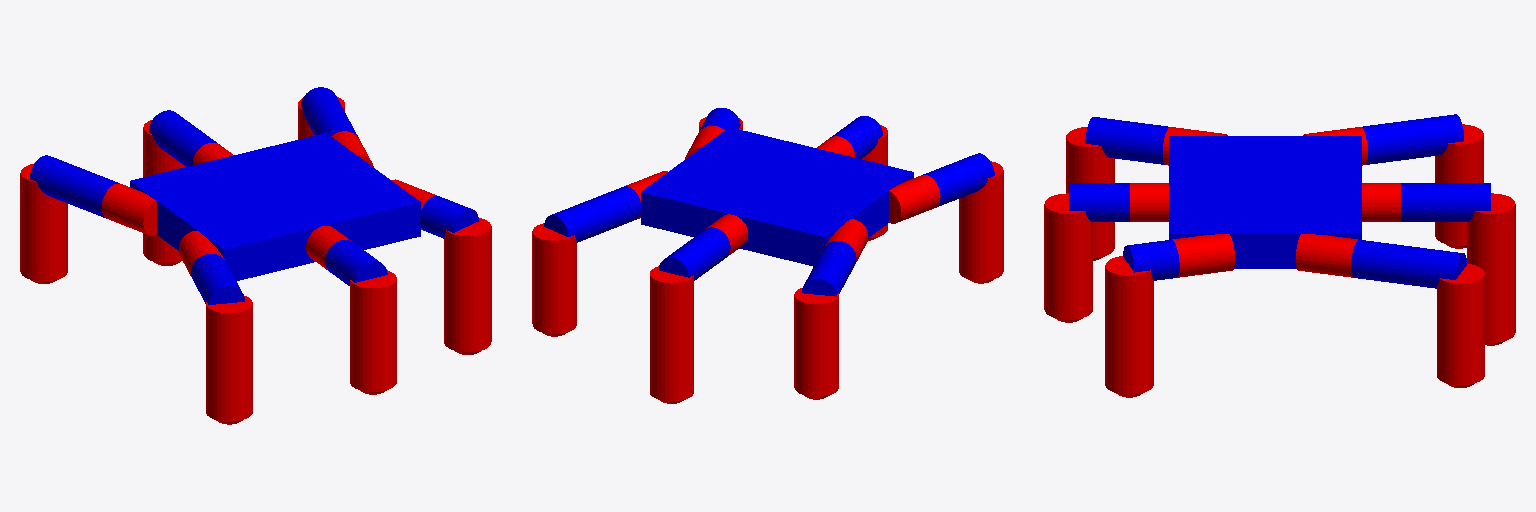
--- Facts derived from the render (not from the file) ---
Views: 3 orthographic renders of the robot side by side, from view 1: azimuth 30°, elevation 25°; view 2: azimuth 150°, elevation 25°; view 3: azimuth 270°, elevation 25°.
Robot: pexod — 19 links, 18 joints (18 revolute); root link base_link; default pose: all joints at 0.
Links seen in each view (by area): view 1: base_link, leg_3_3, leg_5_3, leg_4_3, leg_0_3, leg_0_2, leg_0_1, leg_1_2, leg_1_3, leg_5_2, leg_4_2, leg_2_2 (+4 smaller); view 2: base_link, leg_1_3, leg_0_3, leg_2_3, leg_5_3, leg_2_2, leg_1_2, leg_5_2, leg_0_2, leg_5_1, leg_4_2, leg_0_1 (+3 smaller); view 3: base_link, leg_3_3, leg_4_3, leg_1_3, leg_2_3, leg_2_2, leg_0_2, leg_1_2, leg_0_3, leg_5_3, leg_5_2, leg_4_2 (+5 smaller).
Link boxes in pixels (x1=…): base_link: x1=130, y1=133, x2=420, y2=280; leg_3_3: x1=444, y1=218, x2=491, y2=354; leg_5_3: x1=206, y1=296, x2=252, y2=424; leg_4_3: x1=350, y1=270, x2=396, y2=394; leg_0_3: x1=20, y1=163, x2=67, y2=283; leg_0_2: x1=30, y1=155, x2=118, y2=218; leg_0_1: x1=102, y1=183, x2=156, y2=235; leg_1_2: x1=149, y1=110, x2=219, y2=166; leg_1_3: x1=143, y1=120, x2=185, y2=265; leg_5_2: x1=191, y1=254, x2=244, y2=304; leg_4_2: x1=325, y1=240, x2=387, y2=285; leg_2_2: x1=301, y1=87, x2=358, y2=137; base_link: x1=641, y1=127, x2=913, y2=266; leg_1_3: x1=650, y1=266, x2=693, y2=403; leg_0_3: x1=794, y1=288, x2=838, y2=399; leg_2_3: x1=532, y1=223, x2=576, y2=336; leg_5_3: x1=959, y1=161, x2=1003, y2=283; leg_2_2: x1=544, y1=186, x2=641, y2=242; leg_1_2: x1=659, y1=227, x2=730, y2=280; leg_5_2: x1=923, y1=153, x2=994, y2=207; leg_0_2: x1=802, y1=241, x2=856, y2=296; leg_5_1: x1=889, y1=175, x2=940, y2=223; leg_4_2: x1=830, y1=116, x2=882, y2=158; leg_0_1: x1=825, y1=219, x2=867, y2=261; base_link: x1=1169, y1=136, x2=1361, y2=268; leg_3_3: x1=1105, y1=256, x2=1153, y2=397; leg_4_3: x1=1044, y1=193, x2=1092, y2=322; leg_1_3: x1=1467, y1=193, x2=1515, y2=345; leg_2_3: x1=1437, y1=264, x2=1484, y2=387; leg_2_2: x1=1351, y1=240, x2=1466, y2=288; leg_0_2: x1=1362, y1=114, x2=1463, y2=164; leg_1_2: x1=1401, y1=183, x2=1490, y2=221; leg_0_3: x1=1435, y1=124, x2=1483, y2=248; leg_5_3: x1=1066, y1=127, x2=1114, y2=260; leg_5_2: x1=1085, y1=117, x2=1168, y2=164; leg_4_2: x1=1069, y1=183, x2=1129, y2=221.
Bounding box of the posed robot: 0.3893 × 0.4861 × 0.1795 m (x, y, z).
Geometry: primitives only (box / cylinder / sphere), no mesh files.

URDF robot description (pexod):
<?xml version="1.0" ?>
<!-- =================================================================================== -->
<!-- |    This document was autogenerated by xacro from pexod.xacro                    | -->
<!-- |    EDITING THIS FILE BY HAND IS NOT RECOMMENDED                                 | -->
<!-- =================================================================================== -->
<robot name="pexod" xmlns:xacro="http://www.ros.org/wiki/xacro">
  <!-- <xacro:include filename="$(find pexod_description)/urdf/pexod_control.xacro" /> -->
  <!-- MATERIALS -->
  <material name="Blue">
    <color rgba="0 0 1 1"/>
  </material>
  <material name="Red">
    <color rgba="1 0 0 1"/>
  </material>
  <material name="Green">
    <color rgba="0 1 0 1"/>
  </material>
  <material name="Yellow">
    <color rgba="1 1 0 1"/>
  </material>
  <material name="LightGrey">
    <color rgba="0.6 0.6 0.6 1.0"/>
  </material>
  <!-- END OF MATERIALS -->
  <!-- XACRO MACROS FOR VISUALS AND COLLISIONS -->
  <!-- END OF XACRO MACROS -->
  <!-- TORSO -->
  <link name="base_link">
    <visual>
      <origin rpy="0 0 0" xyz="0 0 0"/>
      <geometry>
        <box size="0.24 0.2 0.04"/>
      </geometry>
      <material name="Blue"/>
    </visual>
    <collision>
      <origin rpy="0 0 0" xyz="0 0 0"/>
      <geometry>
        <box size="0.24 0.2 0.04"/>
      </geometry>
    </collision>
    <inertial>
      <!-- CENTER OF MASS -->
      <origin rpy="0 0 0" xyz="0 0 0"/>
      <mass value="1.031"/>
      <!-- box inertia: 1/12*m(y^2+z^2), ... -->
      <inertia ixx="0.00357413333333" ixy="0" ixz="0" iyy="0.00508626666667" iyz="0" izz="0.00838546666667"/>
    </inertial>
  </link>
  <!-- XACRO MACRO FOR LEGS LINKS/JOINTS -->
  <!-- END OF LEG LINKS/JOINTS -->
  <joint name="body_leg_2" type="revolute">
    <parent link="base_link"/>
    <child link="leg_2_1"/>
    <limit effort="30.0" lower="-1.57079632679" upper="1.57079632679" velocity="7.0"/>
    <origin rpy="0 0 -0.3" xyz="0.11 0.04 0"/>
    <!-- <xacro:if value="${index == 5 or index == 4 or index == 3}">
                <axis xyz="0 0 1"/>
            </xacro:if>
            <xacro:if value="${index == 2 or index == 1 or index == 0}"> -->
    <axis xyz="0 0 1"/>
    <!-- </xacro:if> -->
    <dynamics damping="0.0"/>
  </joint>
  <link name="leg_2_1">
    <visual>
      <origin rpy="1.57079632679 0 0" xyz="0.01 0.03 0"/>
      <geometry>
        <cylinder length="0.06" radius="0.02"/>
      </geometry>
      <material name="Red"/>
    </visual>
    <collision>
      <origin rpy="1.57079632679 0 0" xyz="0.01 0.03 0"/>
      <geometry>
        <box size="0.02 0.02 0.06"/>
      </geometry>
    </collision>
    <inertial>
      <!-- CENTER OF MASS -->
      <origin rpy="1.57079632679 0 0" xyz="0.01 0.03 0"/>
      <mass value="0.02"/>
      <!-- box inertia: 1/12*m(y^2+z^2), ... -->
      <inertia ixx="6.66666666667e-06" ixy="0" ixz="0" iyy="6.66666666667e-06" iyz="0" izz="1.33333333333e-06"/>
    </inertial>
  </link>
  <joint name="leg_2_1_2" type="revolute">
    <parent link="leg_2_1"/>
    <child link="leg_2_2"/>
    <limit effort="30.0" lower="-0.78539816339" upper="0.78539816339" velocity="7.0"/>
    <origin rpy="0 0 0" xyz="0 0.06 0"/>
    <axis xyz="1 0 0"/>
    <dynamics damping="0.0"/>
  </joint>
  <link name="leg_2_2">
    <visual>
      <origin rpy="1.57079632679 0 0" xyz="0.01 0.0564724183135 0"/>
      <geometry>
        <cylinder length="0.112944836627" radius="0.02"/>
      </geometry>
      <material name="Blue"/>
    </visual>
    <collision>
      <origin rpy="1.57079632679 0 0" xyz="0.01 0.0564724183135 0"/>
      <geometry>
        <box size="0.02 0.02 0.112944836627"/>
      </geometry>
    </collision>
    <inertial>
      <!-- CENTER OF MASS -->
      <origin rpy="1.57079632679 0 0" xyz="0.01 0.0564724183135 0"/>
      <mass value="0.184"/>
      <!-- box inertia: 1/12*m(y^2+z^2), ... -->
      <inertia ixx="0.000201733553851" ixy="0" ixz="0" iyy="0.000201733553851" iyz="0" izz="1.22666666667e-05"/>
    </inertial>
  </link>
  <joint name="leg_2_2_3" type="revolute">
    <parent link="leg_2_2"/>
    <child link="leg_2_3"/>
    <limit effort="30.0" lower="-0.78539816339" upper="0.78539816339" velocity="7.0"/>
    <origin rpy="-1.57079632679 0 0" xyz="0 0.112944836627 0"/>
    <axis xyz="-1 0 0"/>
    <dynamics damping="0.0"/>
  </joint>
  <link name="leg_2_3">
    <visual>
      <origin rpy="1.57079632679 0 0" xyz="0.0125 0.057927809242 0"/>
      <geometry>
        <cylinder length="0.115855618484" radius="0.025"/>
      </geometry>
      <material name="Red"/>
    </visual>
    <visual>
      <origin rpy="1.57079632679 0 0" xyz="0.0125 0.103355618484 0"/>
      <geometry>
        <sphere radius="0.025"/>
      </geometry>
      <material name="Red"/>
    </visual>
    <collision>
      <origin rpy="1.57079632679 0 0" xyz="0.0125 0.057927809242 0"/>
      <geometry>
        <box size="0.025 0.025 0.115855618484"/>
      </geometry>
    </collision>
    <collision>
      <origin rpy="1.57079632679 0 0" xyz="0.0125 0.103355618484 0"/>
      <geometry>
        <sphere radius="0.025"/>
      </geometry>
      <material name="Red"/>
    </collision>
    <inertial>
      <!-- CENTER OF MASS -->
      <origin rpy="1.57079632679 0 0" xyz="0.0125 0.057927809242 0"/>
      <mass value="0.04"/>
      <!-- box inertia: 1/12*m(y^2+z^2), ... -->
      <inertia ixx="4.68250811144e-05" ixy="0" ixz="0" iyy="4.68250811144e-05" iyz="0" izz="4.16666666667e-06"/>
    </inertial>
  </link>
  <joint name="body_leg_3" type="revolute">
    <parent link="base_link"/>
    <child link="leg_3_1"/>
    <limit effort="30.0" lower="-1.57079632679" upper="1.57079632679" velocity="7.0"/>
    <origin rpy="0 0 0.3" xyz="0.11 -0.04 0"/>
    <!-- <xacro:if value="${index == 5 or index == 4 or index == 3}">
                <axis xyz="0 0 1"/>
            </xacro:if>
            <xacro:if value="${index == 2 or index == 1 or index == 0}"> -->
    <axis xyz="0 0 1"/>
    <!-- </xacro:if> -->
    <dynamics damping="0.0"/>
  </joint>
  <link name="leg_3_1">
    <visual>
      <origin rpy="1.57079632679 0 0" xyz="0.01 -0.03 0"/>
      <geometry>
        <cylinder length="0.06" radius="0.02"/>
      </geometry>
      <material name="Red"/>
    </visual>
    <collision>
      <origin rpy="1.57079632679 0 0" xyz="0.01 -0.03 0"/>
      <geometry>
        <box size="0.02 0.02 0.06"/>
      </geometry>
    </collision>
    <inertial>
      <!-- CENTER OF MASS -->
      <origin rpy="1.57079632679 0 0" xyz="0.01 -0.03 0"/>
      <mass value="0.02"/>
      <!-- box inertia: 1/12*m(y^2+z^2), ... -->
      <inertia ixx="6.66666666667e-06" ixy="0" ixz="0" iyy="6.66666666667e-06" iyz="0" izz="1.33333333333e-06"/>
    </inertial>
  </link>
  <joint name="leg_3_1_2" type="revolute">
    <parent link="leg_3_1"/>
    <child link="leg_3_2"/>
    <limit effort="30.0" lower="-0.78539816339" upper="0.78539816339" velocity="7.0"/>
    <origin rpy="0 0 0" xyz="0 -0.06 0"/>
    <axis xyz="-1 0 0"/>
    <dynamics damping="0.0"/>
  </joint>
  <link name="leg_3_2">
    <visual>
      <origin rpy="1.57079632679 0 0" xyz="0.01 -0.0244085472381 0"/>
      <geometry>
        <cylinder length="0.0488170944762" radius="0.02"/>
      </geometry>
      <material name="Blue"/>
    </visual>
    <collision>
      <origin rpy="1.57079632679 0 0" xyz="0.01 -0.0244085472381 0"/>
      <geometry>
        <box size="0.02 0.02 0.0488170944762"/>
      </geometry>
    </collision>
    <inertial>
      <!-- CENTER OF MASS -->
      <origin rpy="1.57079632679 0 0" xyz="0.01 -0.0244085472381 0"/>
      <mass value="0.184"/>
      <!-- box inertia: 1/12*m(y^2+z^2), ... -->
      <inertia ixx="4.26743336008e-05" ixy="0" ixz="0" iyy="4.26743336008e-05" iyz="0" izz="1.22666666667e-05"/>
    </inertial>
  </link>
  <joint name="leg_3_2_3" type="revolute">
    <parent link="leg_3_2"/>
    <child link="leg_3_3"/>
    <limit effort="30.0" lower="-0.78539816339" upper="0.78539816339" velocity="7.0"/>
    <origin rpy="1.57079632679 0 0" xyz="0 -0.0488170944762 0"/>
    <axis xyz="1 0 0"/>
    <dynamics damping="0.0"/>
  </joint>
  <link name="leg_3_3">
    <visual>
      <origin rpy="1.57079632679 0 0" xyz="0.0125 -0.0676943907455 0"/>
      <geometry>
        <cylinder length="0.135388781491" radius="0.025"/>
      </geometry>
      <material name="Red"/>
    </visual>
    <visual>
      <origin rpy="1.57079632679 0 0" xyz="0.0125 -0.122888781491 0"/>
      <geometry>
        <sphere radius="0.025"/>
      </geometry>
      <material name="Red"/>
    </visual>
    <collision>
      <origin rpy="1.57079632679 0 0" xyz="0.0125 -0.0676943907455 0"/>
      <geometry>
        <box size="0.025 0.025 0.135388781491"/>
      </geometry>
    </collision>
    <collision>
      <origin rpy="1.57079632679 0 0" xyz="0.0125 -0.122888781491 0"/>
      <geometry>
        <sphere radius="0.025"/>
      </geometry>
      <material name="Red"/>
    </collision>
    <inertial>
      <!-- CENTER OF MASS -->
      <origin rpy="1.57079632679 0 0" xyz="0.0125 -0.0676943907455 0"/>
      <mass value="0.04"/>
      <!-- box inertia: 1/12*m(y^2+z^2), ... -->
      <inertia ixx="6.31837405121e-05" ixy="0" ixz="0" iyy="6.31837405121e-05" iyz="0" izz="4.16666666667e-06"/>
    </inertial>
  </link>
  <joint name="body_leg_0" type="revolute">
    <parent link="base_link"/>
    <child link="leg_0_1"/>
    <limit effort="30.0" lower="-1.57079632679" upper="1.57079632679" velocity="7.0"/>
    <origin rpy="0 0 0.3" xyz="-0.13 0.04 0"/>
    <!-- <xacro:if value="${index == 5 or index == 4 or index == 3}">
                <axis xyz="0 0 1"/>
            </xacro:if>
            <xacro:if value="${index == 2 or index == 1 or index == 0}"> -->
    <axis xyz="0 0 1"/>
    <!-- </xacro:if> -->
    <dynamics damping="0.0"/>
  </joint>
  <link name="leg_0_1">
    <visual>
      <origin rpy="1.57079632679 0 0" xyz="0.01 0.03 0"/>
      <geometry>
        <cylinder length="0.06" radius="0.02"/>
      </geometry>
      <material name="Red"/>
    </visual>
    <collision>
      <origin rpy="1.57079632679 0 0" xyz="0.01 0.03 0"/>
      <geometry>
        <box size="0.02 0.02 0.06"/>
      </geometry>
    </collision>
    <inertial>
      <!-- CENTER OF MASS -->
      <origin rpy="1.57079632679 0 0" xyz="0.01 0.03 0"/>
      <mass value="0.02"/>
      <!-- box inertia: 1/12*m(y^2+z^2), ... -->
      <inertia ixx="6.66666666667e-06" ixy="0" ixz="0" iyy="6.66666666667e-06" iyz="0" izz="1.33333333333e-06"/>
    </inertial>
  </link>
  <joint name="leg_0_1_2" type="revolute">
    <parent link="leg_0_1"/>
    <child link="leg_0_2"/>
    <limit effort="30.0" lower="-0.78539816339" upper="0.78539816339" velocity="7.0"/>
    <origin rpy="0 0 0" xyz="0 0.06 0"/>
    <axis xyz="1 0 0"/>
    <dynamics damping="0.0"/>
  </joint>
  <link name="leg_0_2">
    <visual>
      <origin rpy="1.57079632679 0 0" xyz="0.01 0.0519185975355 0"/>
      <geometry>
        <cylinder length="0.103837195071" radius="0.02"/>
      </geometry>
      <material name="Blue"/>
    </visual>
    <collision>
      <origin rpy="1.57079632679 0 0" xyz="0.01 0.0519185975355 0"/>
      <geometry>
        <box size="0.02 0.02 0.103837195071"/>
      </geometry>
    </collision>
    <inertial>
      <!-- CENTER OF MASS -->
      <origin rpy="1.57079632679 0 0" xyz="0.01 0.0519185975355 0"/>
      <mass value="0.184"/>
      <!-- box inertia: 1/12*m(y^2+z^2), ... -->
      <inertia ixx="0.000171459833897" ixy="0" ixz="0" iyy="0.000171459833897" iyz="0" izz="1.22666666667e-05"/>
    </inertial>
  </link>
  <joint name="leg_0_2_3" type="revolute">
    <parent link="leg_0_2"/>
    <child link="leg_0_3"/>
    <limit effort="30.0" lower="-0.78539816339" upper="0.78539816339" velocity="7.0"/>
    <origin rpy="-1.57079632679 0 0" xyz="0 0.103837195071 0"/>
    <axis xyz="-1 0 0"/>
    <dynamics damping="0.0"/>
  </joint>
  <link name="leg_0_3">
    <visual>
      <origin rpy="1.57079632679 0 0" xyz="0.0125 0.0576606744605 0"/>
      <geometry>
        <cylinder length="0.115321348921" radius="0.025"/>
      </geometry>
      <material name="Red"/>
    </visual>
    <visual>
      <origin rpy="1.57079632679 0 0" xyz="0.0125 0.102821348921 0"/>
      <geometry>
        <sphere radius="0.025"/>
      </geometry>
      <material name="Red"/>
    </visual>
    <collision>
      <origin rpy="1.57079632679 0 0" xyz="0.0125 0.0576606744605 0"/>
      <geometry>
        <box size="0.025 0.025 0.115321348921"/>
      </geometry>
    </collision>
    <collision>
      <origin rpy="1.57079632679 0 0" xyz="0.0125 0.102821348921 0"/>
      <geometry>
        <sphere radius="0.025"/>
      </geometry>
      <material name="Red"/>
    </collision>
    <inertial>
      <!-- CENTER OF MASS -->
      <origin rpy="1.57079632679 0 0" xyz="0.0125 0.0576606744605 0"/>
      <mass value="0.04"/>
      <!-- box inertia: 1/12*m(y^2+z^2), ... -->
      <inertia ixx="4.64133783899e-05" ixy="0" ixz="0" iyy="4.64133783899e-05" iyz="0" izz="4.16666666667e-06"/>
    </inertial>
  </link>
  <joint name="body_leg_5" type="revolute">
    <parent link="base_link"/>
    <child link="leg_5_1"/>
    <limit effort="30.0" lower="-1.57079632679" upper="1.57079632679" velocity="7.0"/>
    <origin rpy="0 0 -0.3" xyz="-0.13 -0.04 0"/>
    <!-- <xacro:if value="${index == 5 or index == 4 or index == 3}">
                <axis xyz="0 0 1"/>
            </xacro:if>
            <xacro:if value="${index == 2 or index == 1 or index == 0}"> -->
    <axis xyz="0 0 1"/>
    <!-- </xacro:if> -->
    <dynamics damping="0.0"/>
  </joint>
  <link name="leg_5_1">
    <visual>
      <origin rpy="1.57079632679 0 0" xyz="0.01 -0.03 0"/>
      <geometry>
        <cylinder length="0.06" radius="0.02"/>
      </geometry>
      <material name="Red"/>
    </visual>
    <collision>
      <origin rpy="1.57079632679 0 0" xyz="0.01 -0.03 0"/>
      <geometry>
        <box size="0.02 0.02 0.06"/>
      </geometry>
    </collision>
    <inertial>
      <!-- CENTER OF MASS -->
      <origin rpy="1.57079632679 0 0" xyz="0.01 -0.03 0"/>
      <mass value="0.02"/>
      <!-- box inertia: 1/12*m(y^2+z^2), ... -->
      <inertia ixx="6.66666666667e-06" ixy="0" ixz="0" iyy="6.66666666667e-06" iyz="0" izz="1.33333333333e-06"/>
    </inertial>
  </link>
  <joint name="leg_5_1_2" type="revolute">
    <parent link="leg_5_1"/>
    <child link="leg_5_2"/>
    <limit effort="30.0" lower="-0.78539816339" upper="0.78539816339" velocity="7.0"/>
    <origin rpy="0 0 0" xyz="0 -0.06 0"/>
    <axis xyz="-1 0 0"/>
    <dynamics damping="0.0"/>
  </joint>
  <link name="leg_5_2">
    <visual>
      <origin rpy="1.57079632679 0 0" xyz="0.01 -0.0416664580991 0"/>
      <geometry>
        <cylinder length="0.0833329161983" radius="0.02"/>
      </geometry>
      <material name="Blue"/>
    </visual>
    <collision>
      <origin rpy="1.57079632679 0 0" xyz="0.01 -0.0416664580991 0"/>
      <geometry>
        <box size="0.02 0.02 0.0833329161983"/>
      </geometry>
    </collision>
    <inertial>
      <!-- CENTER OF MASS -->
      <origin rpy="1.57079632679 0 0" xyz="0.01 -0.0416664580991 0"/>
      <mass value="0.184"/>
      <!-- box inertia: 1/12*m(y^2+z^2), ... -->
      <inertia ixx="0.000112613748806" ixy="0" ixz="0" iyy="0.000112613748806" iyz="0" izz="1.22666666667e-05"/>
    </inertial>
  </link>
  <joint name="leg_5_2_3" type="revolute">
    <parent link="leg_5_2"/>
    <child link="leg_5_3"/>
    <limit effort="30.0" lower="-0.78539816339" upper="0.78539816339" velocity="7.0"/>
    <origin rpy="1.57079632679 0 0" xyz="0 -0.0833329161983 0"/>
    <axis xyz="1 0 0"/>
    <dynamics damping="0.0"/>
  </joint>
  <link name="leg_5_3">
    <visual>
      <origin rpy="1.57079632679 0 0" xyz="0.0125 -0.0632711247405 0"/>
      <geometry>
        <cylinder length="0.126542249481" radius="0.025"/>
      </geometry>
      <material name="Red"/>
    </visual>
    <visual>
      <origin rpy="1.57079632679 0 0" xyz="0.0125 -0.114042249481 0"/>
      <geometry>
        <sphere radius="0.025"/>
      </geometry>
      <material name="Red"/>
    </visual>
    <collision>
      <origin rpy="1.57079632679 0 0" xyz="0.0125 -0.0632711247405 0"/>
      <geometry>
        <box size="0.025 0.025 0.126542249481"/>
      </geometry>
    </collision>
    <collision>
      <origin rpy="1.57079632679 0 0" xyz="0.0125 -0.114042249481 0"/>
      <geometry>
        <sphere radius="0.025"/>
      </geometry>
      <material name="Red"/>
    </collision>
    <inertial>
      <!-- CENTER OF MASS -->
      <origin rpy="1.57079632679 0 0" xyz="0.0125 -0.0632711247405 0"/>
      <mass value="0.04"/>
      <!-- box inertia: 1/12*m(y^2+z^2), ... -->
      <inertia ixx="5.54598030124e-05" ixy="0" ixz="0" iyy="5.54598030124e-05" iyz="0" izz="4.16666666667e-06"/>
    </inertial>
  </link>
  <joint name="body_leg_1" type="revolute">
    <parent link="base_link"/>
    <child link="leg_1_1"/>
    <limit effort="30.0" lower="-1.57079632679" upper="1.57079632679" velocity="7.0"/>
    <origin rpy="0 0 0" xyz="-0.01 0.08 0"/>
    <!-- <xacro:if value="${index == 5 or index == 4 or index == 3}">
                <axis xyz="0 0 1"/>
            </xacro:if>
            <xacro:if value="${index == 2 or index == 1 or index == 0}"> -->
    <axis xyz="0 0 1"/>
    <!-- </xacro:if> -->
    <dynamics damping="0.0"/>
  </joint>
  <link name="leg_1_1">
    <visual>
      <origin rpy="1.57079632679 0 0" xyz="0.01 0.03 0"/>
      <geometry>
        <cylinder length="0.06" radius="0.02"/>
      </geometry>
      <material name="Red"/>
    </visual>
    <collision>
      <origin rpy="1.57079632679 0 0" xyz="0.01 0.03 0"/>
      <geometry>
        <box size="0.02 0.02 0.06"/>
      </geometry>
    </collision>
    <inertial>
      <!-- CENTER OF MASS -->
      <origin rpy="1.57079632679 0 0" xyz="0.01 0.03 0"/>
      <mass value="0.02"/>
      <!-- box inertia: 1/12*m(y^2+z^2), ... -->
      <inertia ixx="6.66666666667e-06" ixy="0" ixz="0" iyy="6.66666666667e-06" iyz="0" izz="1.33333333333e-06"/>
    </inertial>
  </link>
  <joint name="leg_1_1_2" type="revolute">
    <parent link="leg_1_1"/>
    <child link="leg_1_2"/>
    <limit effort="30.0" lower="-0.78539816339" upper="0.78539816339" velocity="7.0"/>
    <origin rpy="0 0 0" xyz="0 0.06 0"/>
    <axis xyz="1 0 0"/>
    <dynamics damping="0.0"/>
  </joint>
  <link name="leg_1_2">
    <visual>
      <origin rpy="1.57079632679 0 0" xyz="0.01 0.0465515741211 0"/>
      <geometry>
        <cylinder length="0.0931031482421" radius="0.02"/>
      </geometry>
      <material name="Blue"/>
    </visual>
    <collision>
      <origin rpy="1.57079632679 0 0" xyz="0.01 0.0465515741211 0"/>
      <geometry>
        <box size="0.02 0.02 0.0931031482421"/>
      </geometry>
    </collision>
    <inertial>
      <!-- CENTER OF MASS -->
      <origin rpy="1.57079632679 0 0" xyz="0.01 0.0465515741211 0"/>
      <mass value="0.184"/>
      <!-- box inertia: 1/12*m(y^2+z^2), ... -->
      <inertia ixx="0.00013904567526" ixy="0" ixz="0" iyy="0.00013904567526" iyz="0" izz="1.22666666667e-05"/>
    </inertial>
  </link>
  <joint name="leg_1_2_3" type="revolute">
    <parent link="leg_1_2"/>
    <child link="leg_1_3"/>
    <limit effort="30.0" lower="-0.78539816339" upper="0.78539816339" velocity="7.0"/>
    <origin rpy="-1.57079632679 0 0" xyz="0 0.0931031482421 0"/>
    <axis xyz="-1 0 0"/>
    <dynamics damping="0.0"/>
  </joint>
  <link name="leg_1_3">
    <visual>
      <origin rpy="1.57079632679 0 0" xyz="0.0125 0.073475809485 0"/>
      <geometry>
        <cylinder length="0.14695161897" radius="0.025"/>
      </geometry>
      <material name="Red"/>
    </visual>
    <visual>
      <origin rpy="1.57079632679 0 0" xyz="0.0125 0.13445161897 0"/>
      <geometry>
        <sphere radius="0.025"/>
      </geometry>
      <material name="Red"/>
    </visual>
    <collision>
      <origin rpy="1.57079632679 0 0" xyz="0.0125 0.073475809485 0"/>
      <geometry>
        <box size="0.025 0.025 0.14695161897"/>
      </geometry>
    </collision>
    <collision>
      <origin rpy="1.57079632679 0 0" xyz="0.0125 0.13445161897 0"/>
      <geometry>
        <sphere radius="0.025"/>
      </geometry>
      <material name="Red"/>
    </collision>
    <inertial>
      <!-- CENTER OF MASS -->
      <origin rpy="1.57079632679 0 0" xyz="0.0125 0.073475809485 0"/>
      <mass value="0.04"/>
      <!-- box inertia: 1/12*m(y^2+z^2), ... -->
      <inertia ixx="7.40659277263e-05" ixy="0" ixz="0" iyy="7.40659277263e-05" iyz="0" izz="4.16666666667e-06"/>
    </inertial>
  </link>
  <joint name="body_leg_4" type="revolute">
    <parent link="base_link"/>
    <child link="leg_4_1"/>
    <limit effort="30.0" lower="-1.57079632679" upper="1.57079632679" velocity="7.0"/>
    <origin rpy="0 0 0" xyz="-0.01 -0.08 0"/>
    <!-- <xacro:if value="${index == 5 or index == 4 or index == 3}">
                <axis xyz="0 0 1"/>
            </xacro:if>
            <xacro:if value="${index == 2 or index == 1 or index == 0}"> -->
    <axis xyz="0 0 1"/>
    <!-- </xacro:if> -->
    <dynamics damping="0.0"/>
  </joint>
  <link name="leg_4_1">
    <visual>
      <origin rpy="1.57079632679 0 0" xyz="0.01 -0.03 0"/>
      <geometry>
        <cylinder length="0.06" radius="0.02"/>
      </geometry>
      <material name="Red"/>
    </visual>
    <collision>
      <origin rpy="1.57079632679 0 0" xyz="0.01 -0.03 0"/>
      <geometry>
        <box size="0.02 0.02 0.06"/>
      </geometry>
    </collision>
    <inertial>
      <!-- CENTER OF MASS -->
      <origin rpy="1.57079632679 0 0" xyz="0.01 -0.03 0"/>
      <mass value="0.02"/>
      <!-- box inertia: 1/12*m(y^2+z^2), ... -->
      <inertia ixx="6.66666666667e-06" ixy="0" ixz="0" iyy="6.66666666667e-06" iyz="0" izz="1.33333333333e-06"/>
    </inertial>
  </link>
  <joint name="leg_4_1_2" type="revolute">
    <parent link="leg_4_1"/>
    <child link="leg_4_2"/>
    <limit effort="30.0" lower="-0.78539816339" upper="0.78539816339" velocity="7.0"/>
    <origin rpy="0 0 0" xyz="0 -0.06 0"/>
    <axis xyz="-1 0 0"/>
    <dynamics damping="0.0"/>
  </joint>
  <link name="leg_4_2">
    <visual>
      <origin rpy="1.57079632679 0 0" xyz="0.01 -0.0315084014694 0"/>
      <geometry>
        <cylinder length="0.0630168029389" radius="0.02"/>
      </geometry>
      <material name="Blue"/>
    </visual>
    <collision>
      <origin rpy="1.57079632679 0 0" xyz="0.01 -0.0315084014694 0"/>
      <geometry>
        <box size="0.02 0.02 0.0630168029389"/>
      </geometry>
    </collision>
    <inertial>
      <!-- CENTER OF MASS -->
      <origin rpy="1.57079632679 0 0" xyz="0.01 -0.0315084014694 0"/>
      <mass value="0.184"/>
      <!-- box inertia: 1/12*m(y^2+z^2), ... -->
      <inertia ixx="6.70238009405e-05" ixy="0" ixz="0" iyy="6.70238009405e-05" iyz="0" izz="1.22666666667e-05"/>
    </inertial>
  </link>
  <joint name="leg_4_2_3" type="revolute">
    <parent link="leg_4_2"/>
    <child link="leg_4_3"/>
    <limit effort="30.0" lower="-0.78539816339" upper="0.78539816339" velocity="7.0"/>
    <origin rpy="1.57079632679 0 0" xyz="0 -0.0630168029389 0"/>
    <axis xyz="1 0 0"/>
    <dynamics damping="0.0"/>
  </joint>
  <link name="leg_4_3">
    <visual>
      <origin rpy="1.57079632679 0 0" xyz="0.0125 -0.0603879440585 0"/>
      <geometry>
        <cylinder length="0.120775888117" radius="0.025"/>
      </geometry>
      <material name="Red"/>
    </visual>
    <visual>
      <origin rpy="1.57079632679 0 0" xyz="0.0125 -0.108275888117 0"/>
      <geometry>
        <sphere radius="0.025"/>
      </geometry>
      <material name="Red"/>
    </visual>
    <collision>
      <origin rpy="1.57079632679 0 0" xyz="0.0125 -0.0603879440585 0"/>
      <geometry>
        <box size="0.025 0.025 0.120775888117"/>
      </geometry>
    </collision>
    <collision>
      <origin rpy="1.57079632679 0 0" xyz="0.0125 -0.108275888117 0"/>
      <geometry>
        <sphere radius="0.025"/>
      </geometry>
      <material name="Red"/>
    </collision>
    <inertial>
      <!-- CENTER OF MASS -->
      <origin rpy="1.57079632679 0 0" xyz="0.0125 -0.0603879440585 0"/>
      <mass value="0.04"/>
      <!-- box inertia: 1/12*m(y^2+z^2), ... -->
      <inertia ixx="5.07060505015e-05" ixy="0" ixz="0" iyy="5.07060505015e-05" iyz="0" izz="4.16666666667e-06"/>
    </inertial>
  </link>
  <!-- END OF LEG LINKS/JOINTS -->
</robot>
